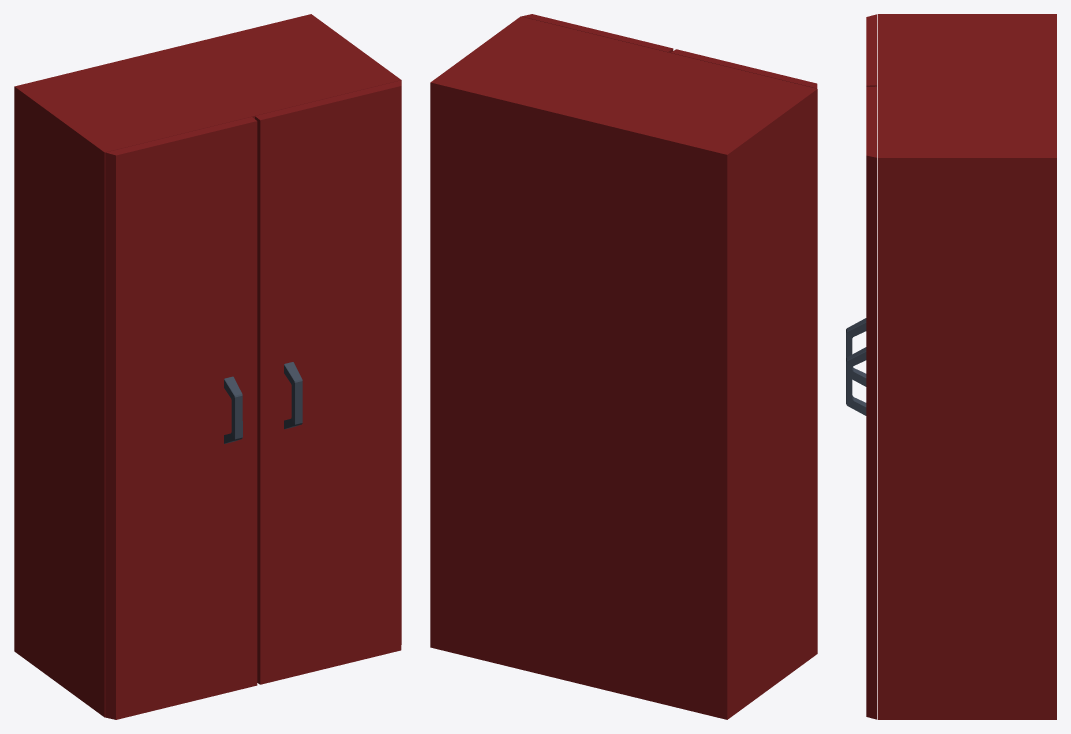
File: Prop_Closet_Close.fbx
3 views of the same model, side by side, from view 1: azimuth 30°, elevation 25°; view 2: azimuth 150°, elevation 25°; view 3: azimuth 270°, elevation 25° (orthographic).
Visible parts, largest first — view 1: Prop_Closet_Close; view 2: Prop_Closet_Close; view 3: Prop_Closet_Close.
Part boxes in pixels (left/top/right/bottom): Prop_Closet_Close: left=14, top=14, right=401, bottom=719; Prop_Closet_Close: left=430, top=14, right=817, bottom=719; Prop_Closet_Close: left=846, top=14, right=1056, bottom=719.
Size of the model in its own units: 82.06 by 133 by 241.
